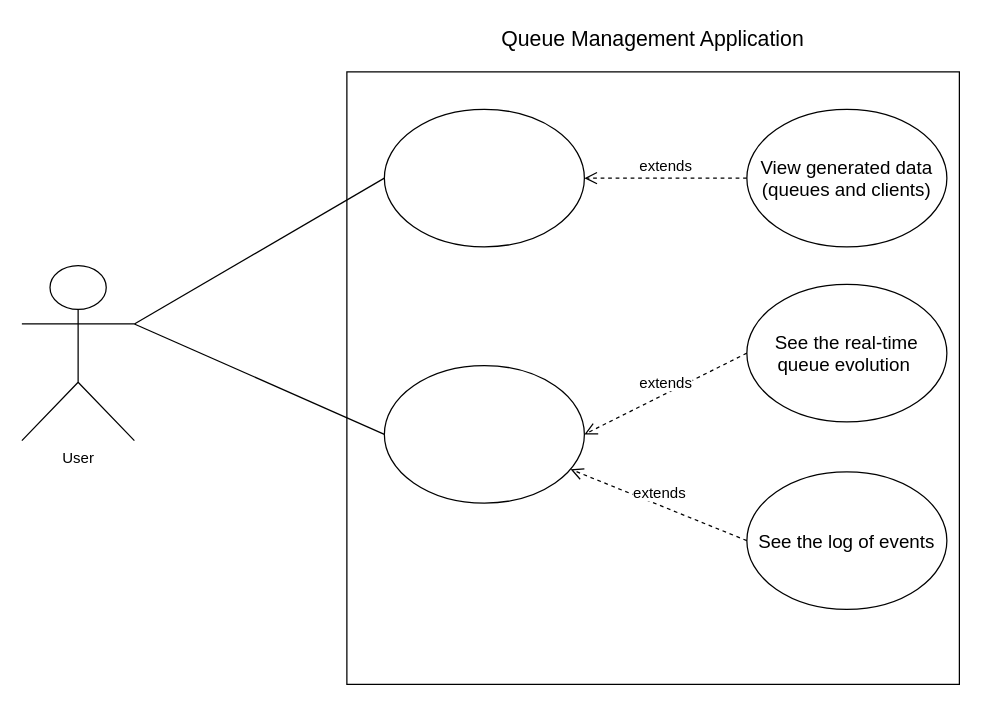
Some shapes in this 981 by 706 pixel diagram are drawn without their labels. Each missing label, with the box of its shape:
Setup the simulation: (383, 108, 584, 247)
Start the simulation: (383, 364, 584, 503)
